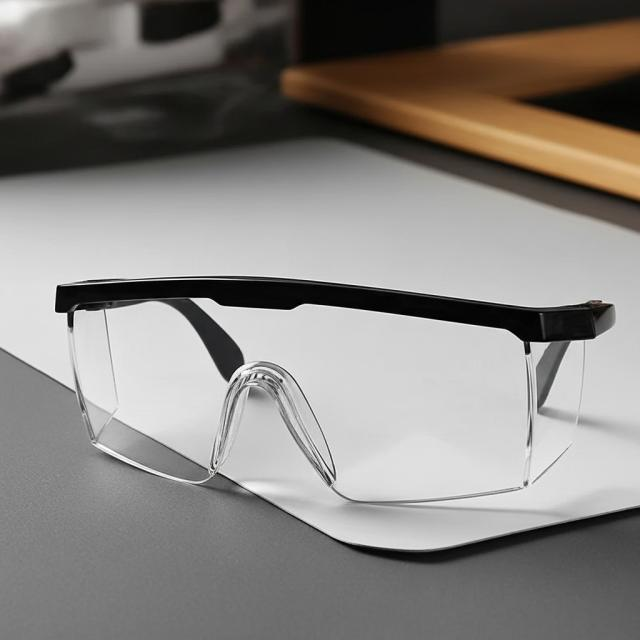oculos-epi: (56, 277, 613, 502)
